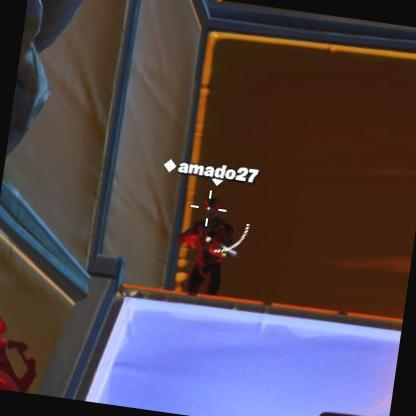person: (168, 194, 240, 299)
